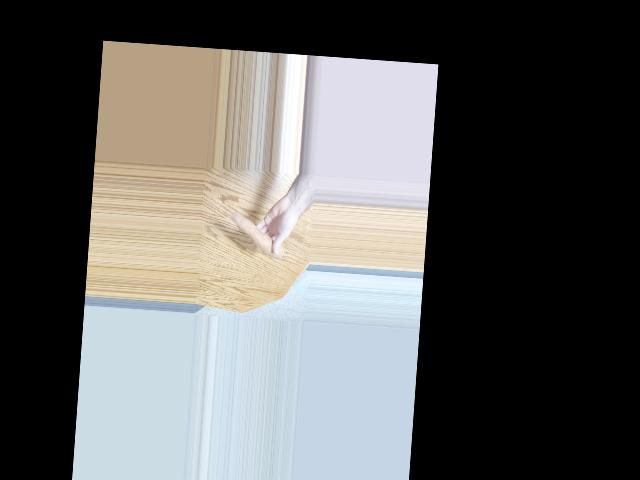sweet_potato: (228, 210, 286, 256)
